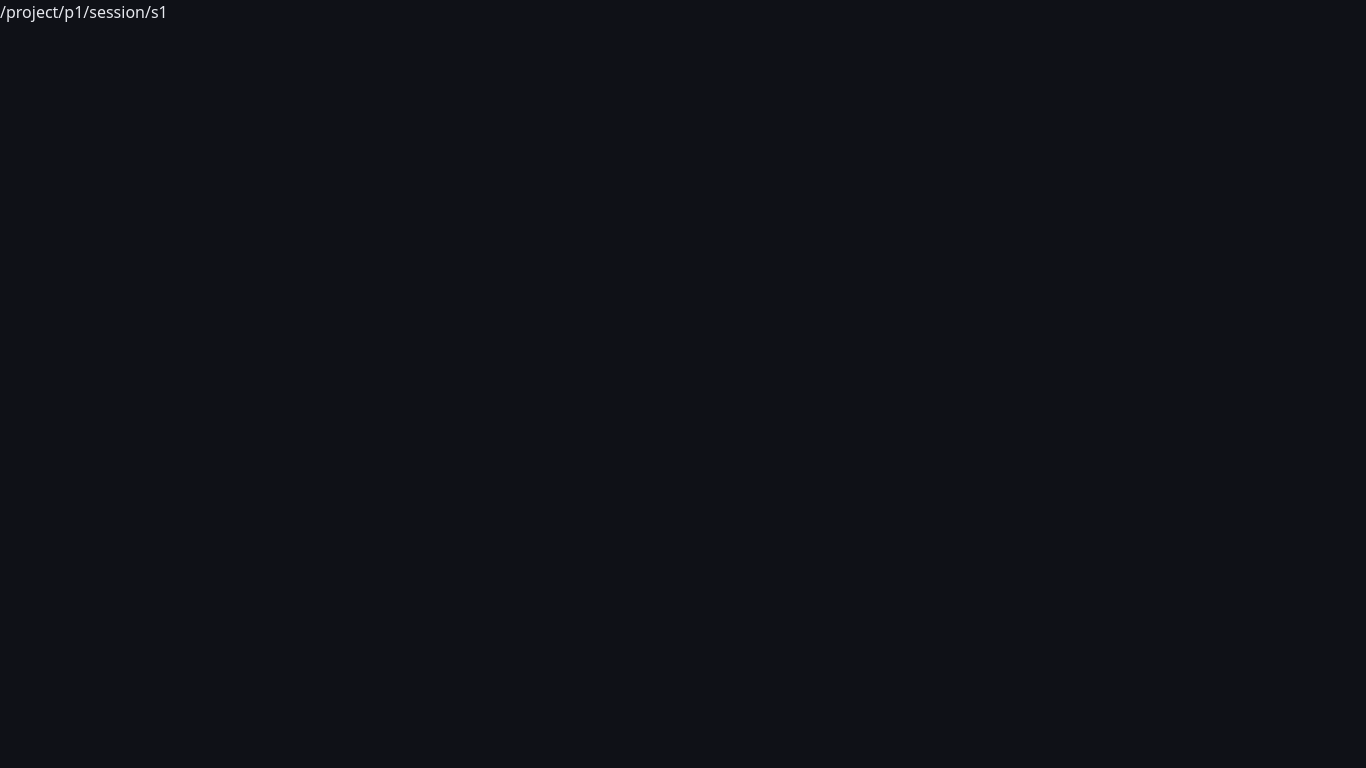
it: commands › switches project through the project view
The width and height of the screenshot is (1366, 768).
Press k
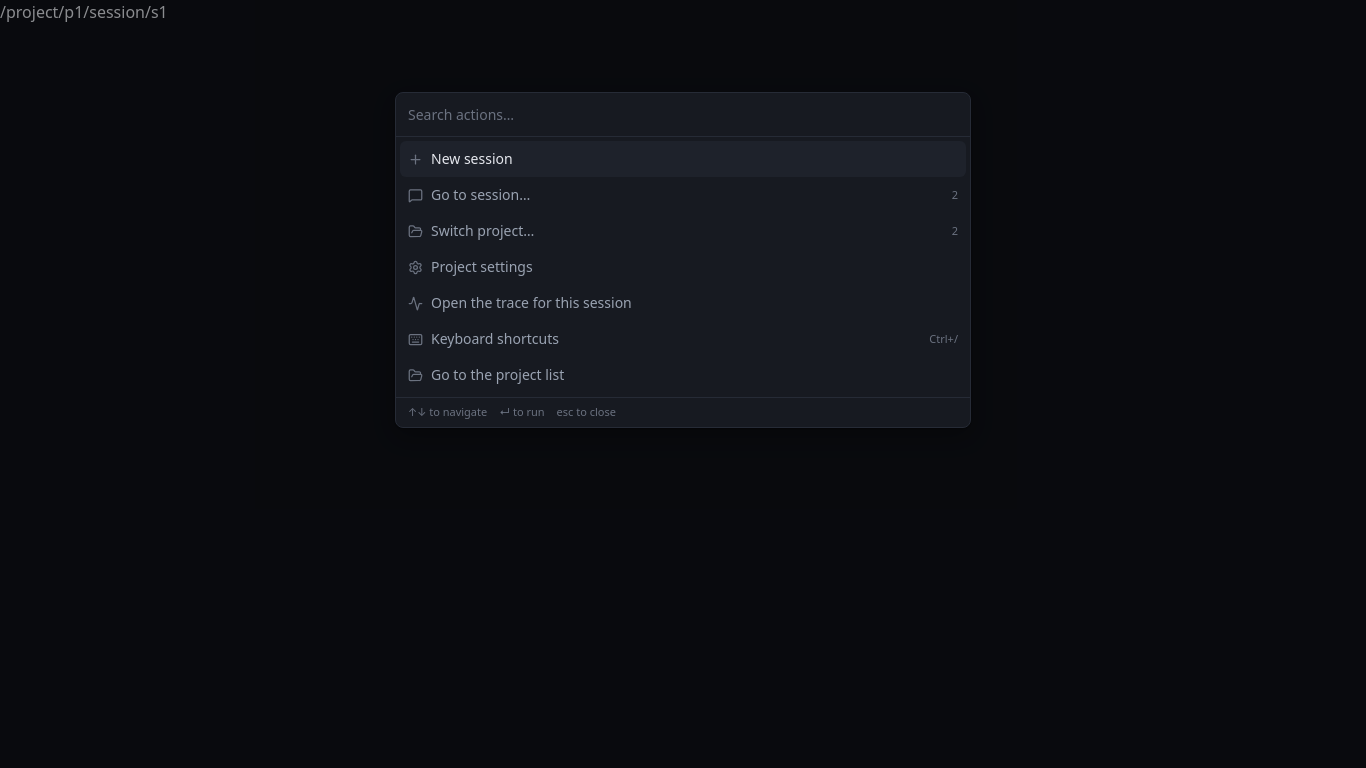
Click the text "Switch project…" at point(483, 231), box x1=431 y1=221 x2=534 y2=240
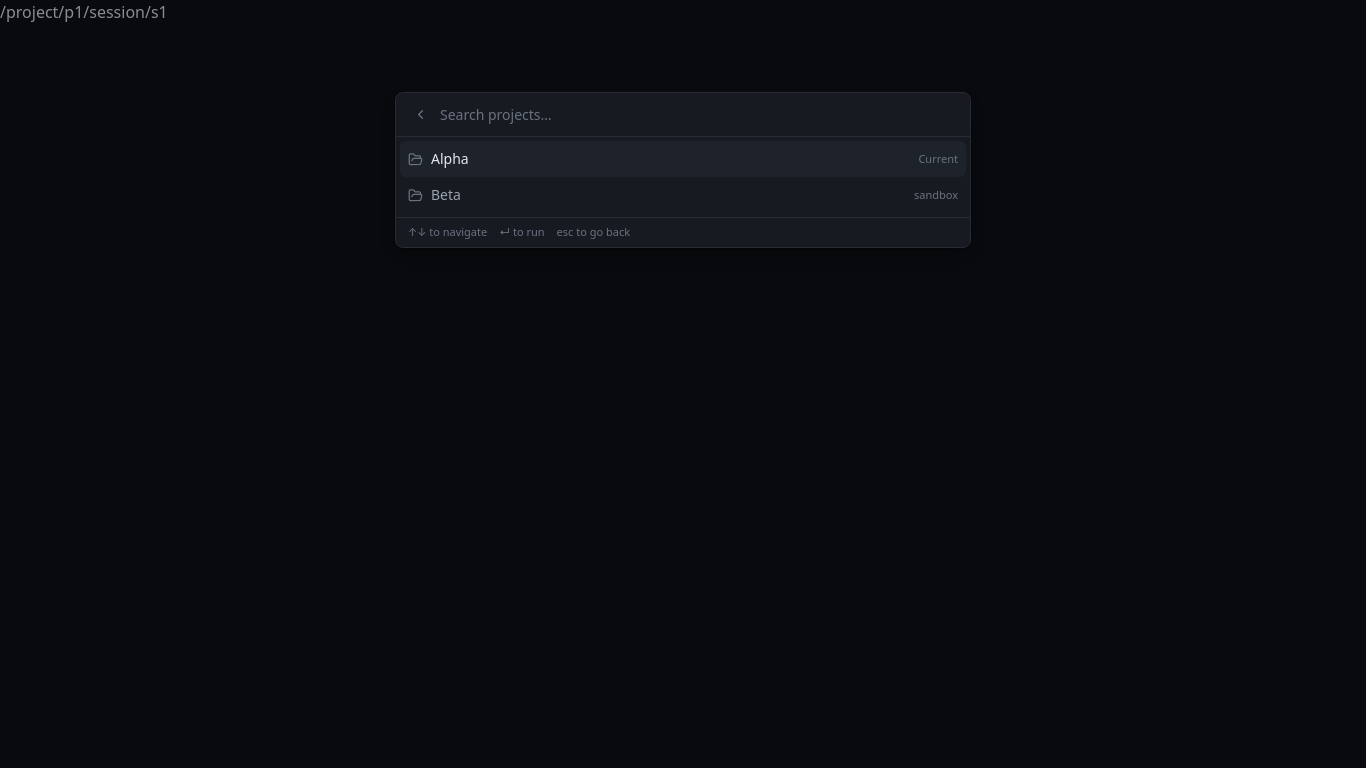
Click the text "Beta" at point(446, 195), box x1=431 y1=185 x2=461 y2=204
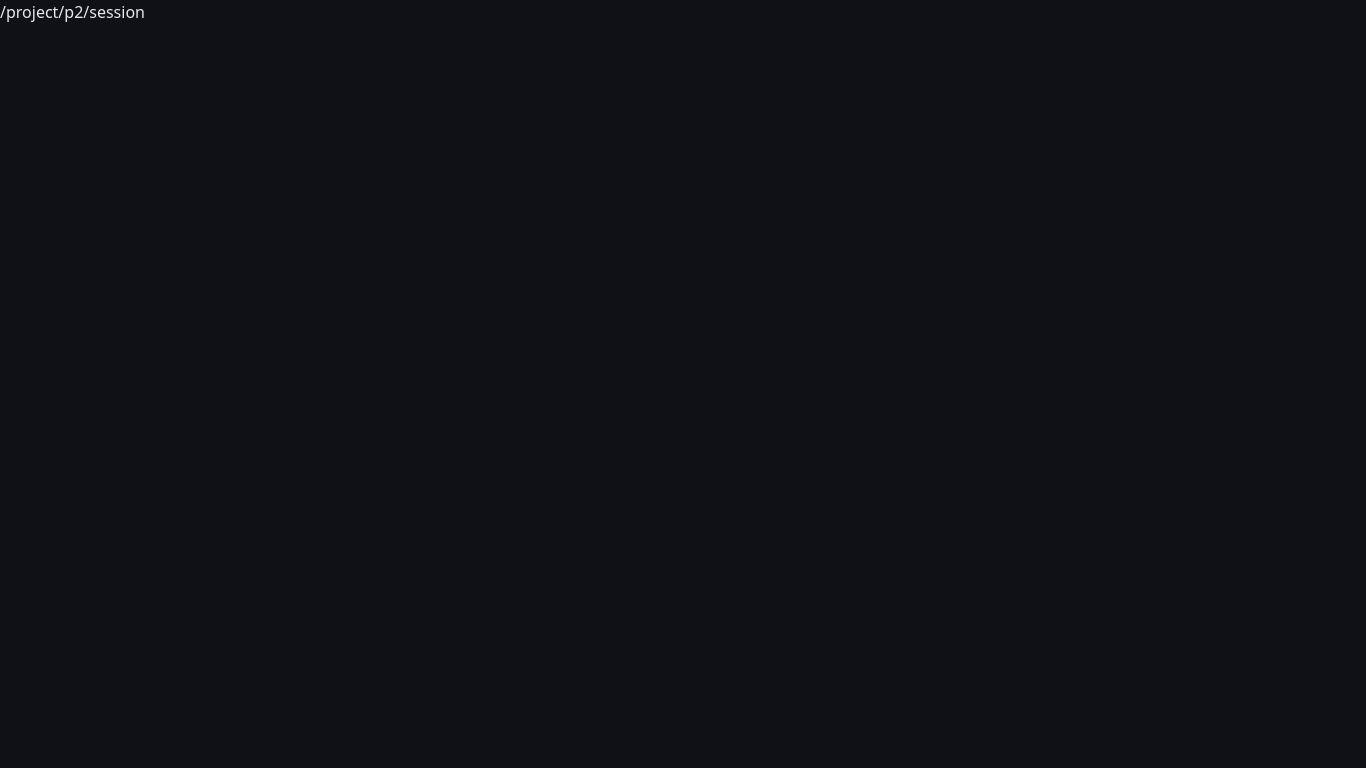
Expected: the text with test id "path" reads "/project/p2/session", x1=0 y1=1 x2=145 y2=23
